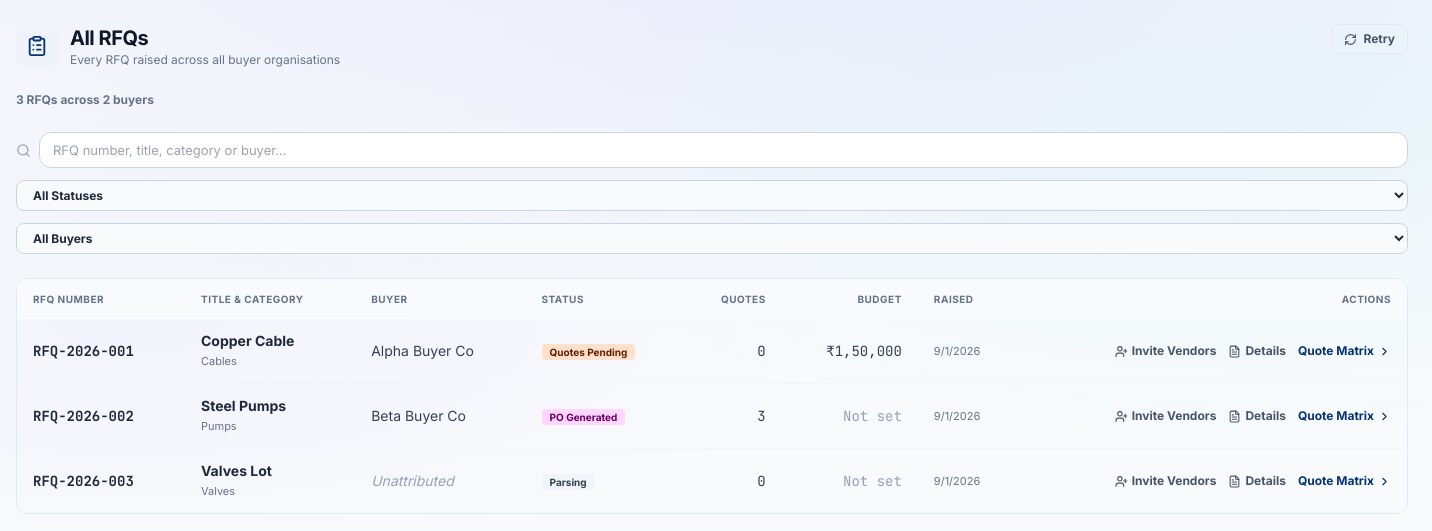
Test: AllRFQsConsole › filters by buyer
The width and height of the screenshot is (1432, 531).
expect the text "Copper Cable" is shown: met, box [201, 332, 294, 349]
Select "Alpha Buyer Co" in the dropdown named "Buyer" at (712, 238), box [16, 223, 1408, 254]
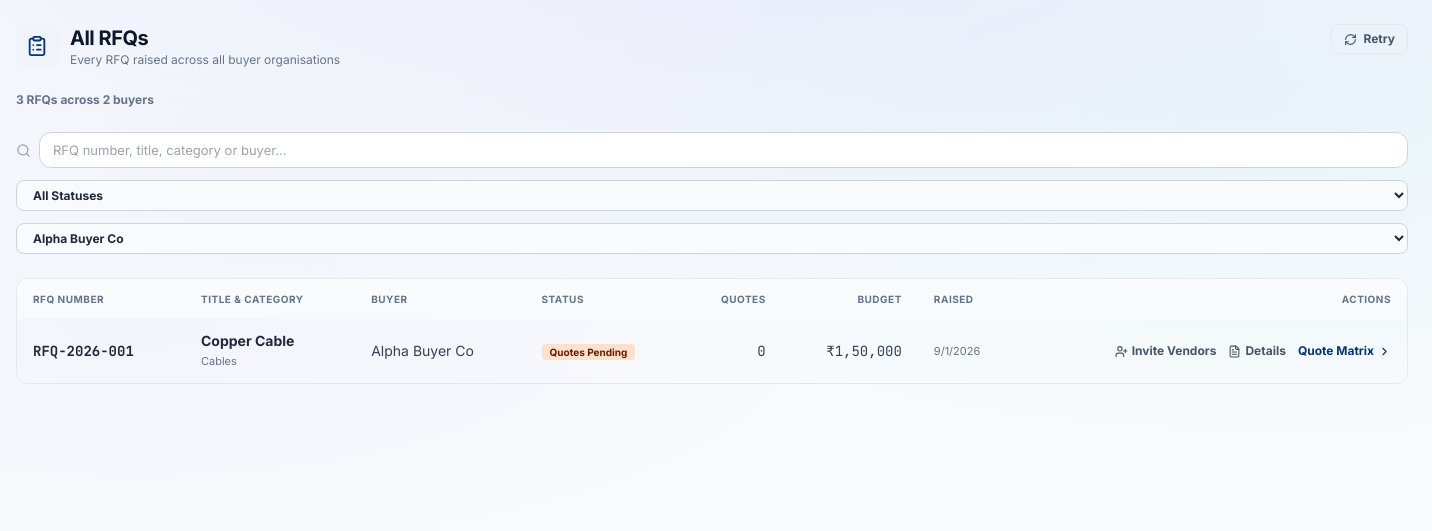
expect the text "Copper Cable" is shown: met, box [201, 332, 294, 349]
expect the text "Steel Pumps" is gone: met
